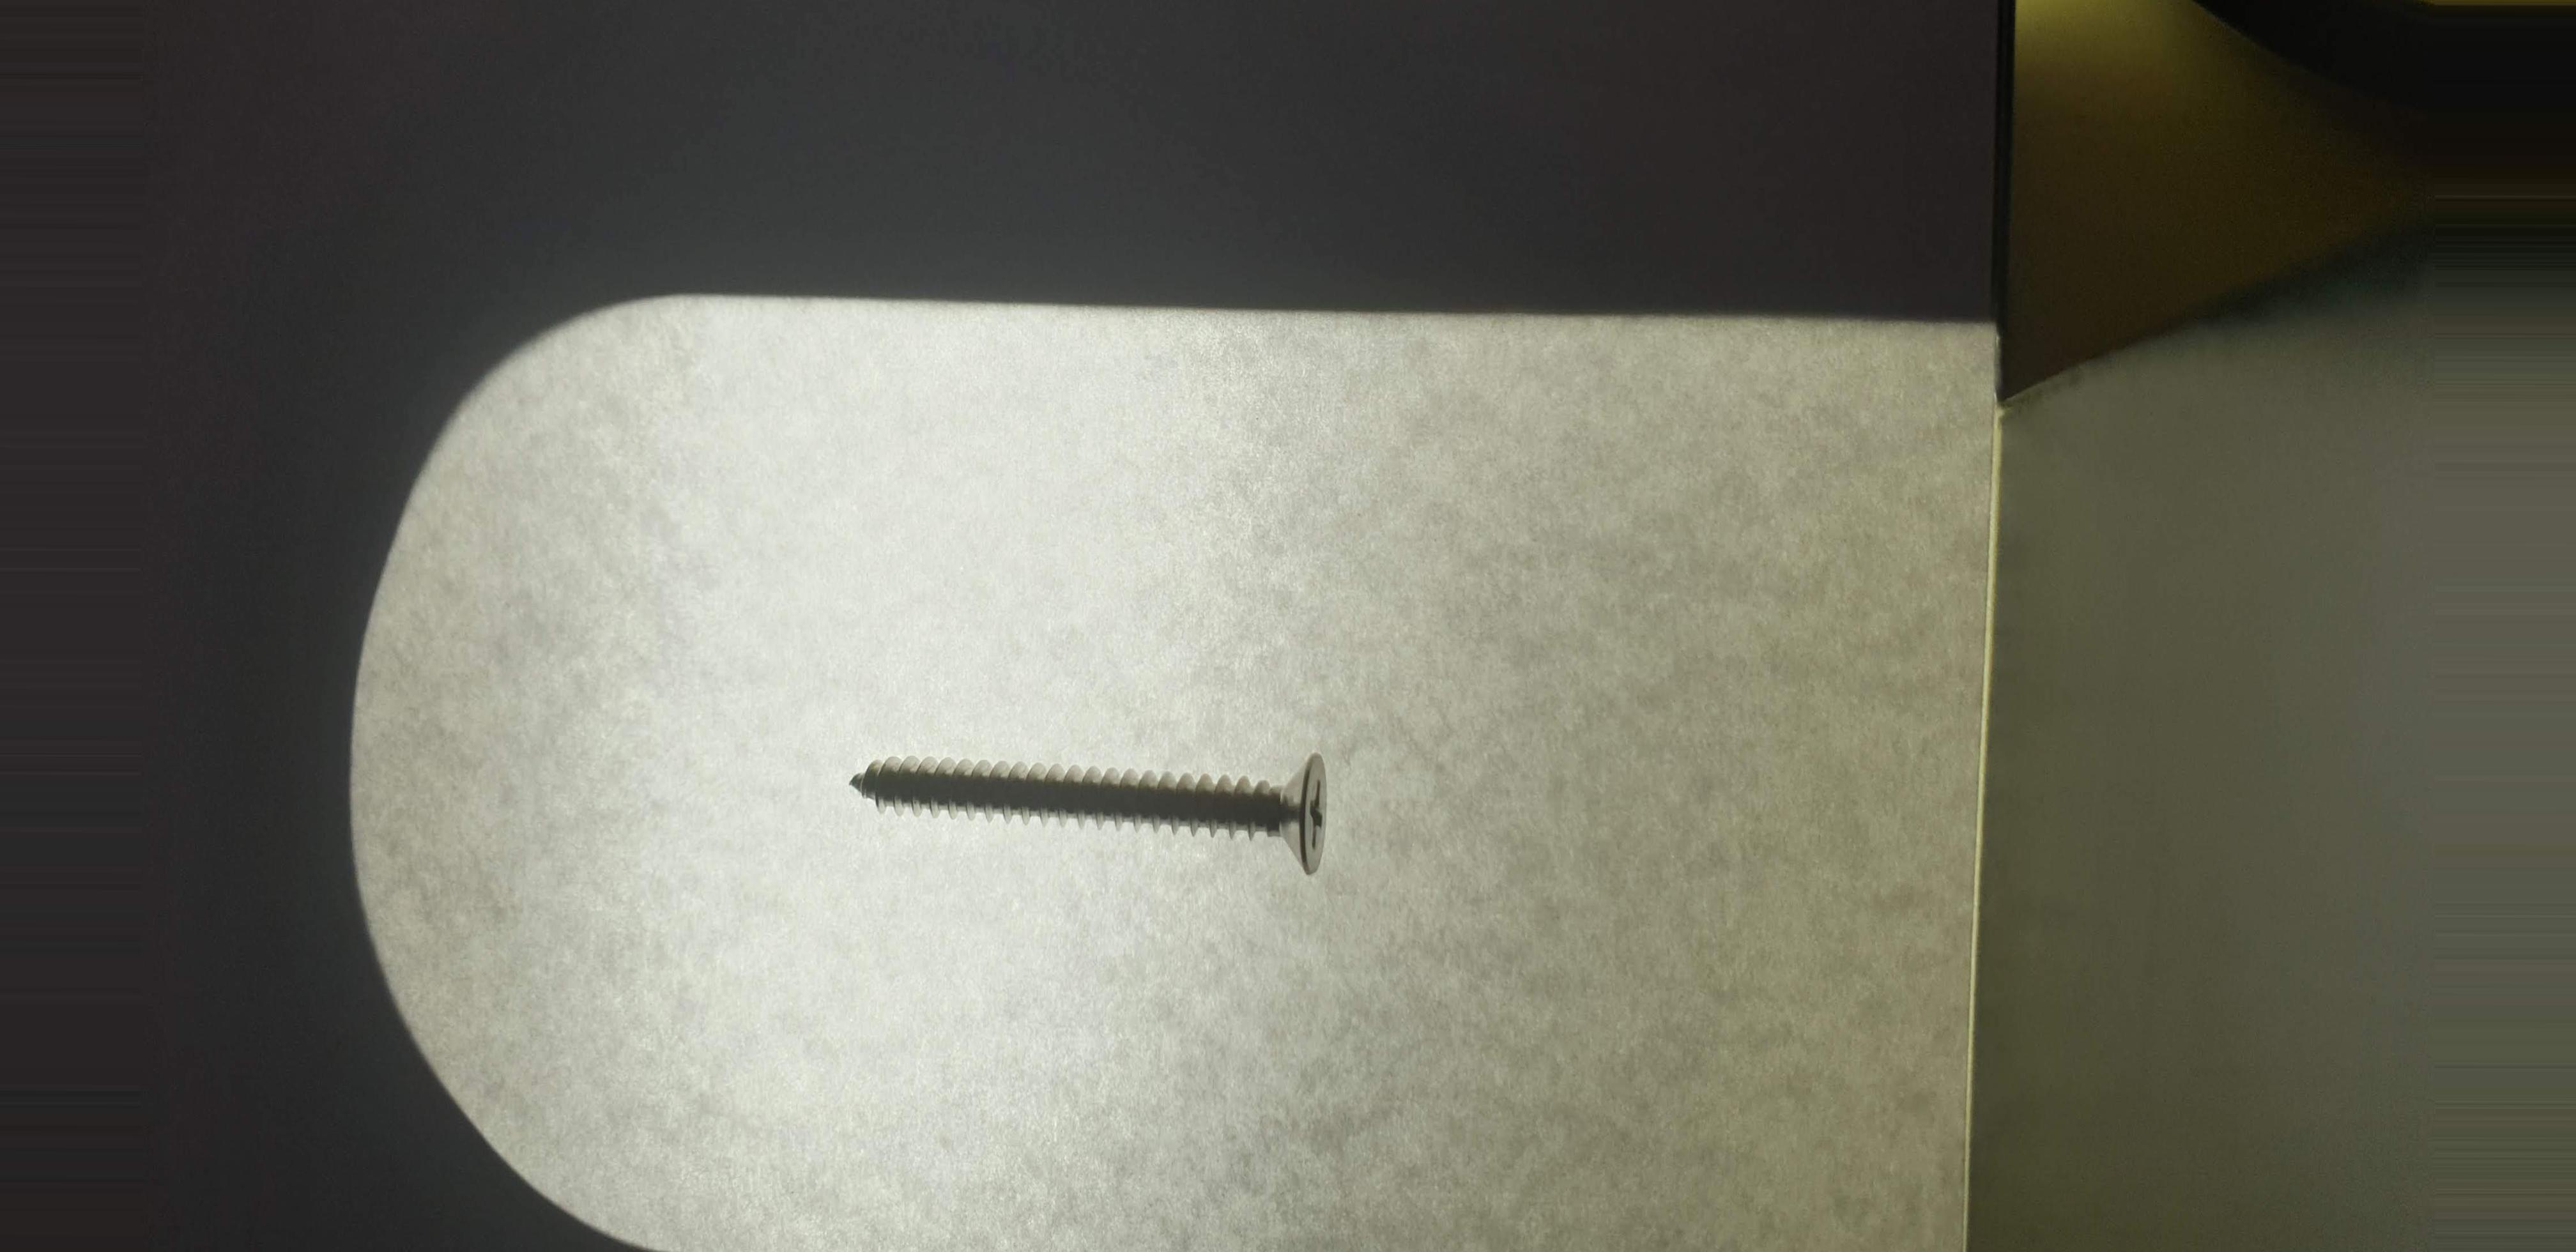S001: (830, 695, 1395, 928)
